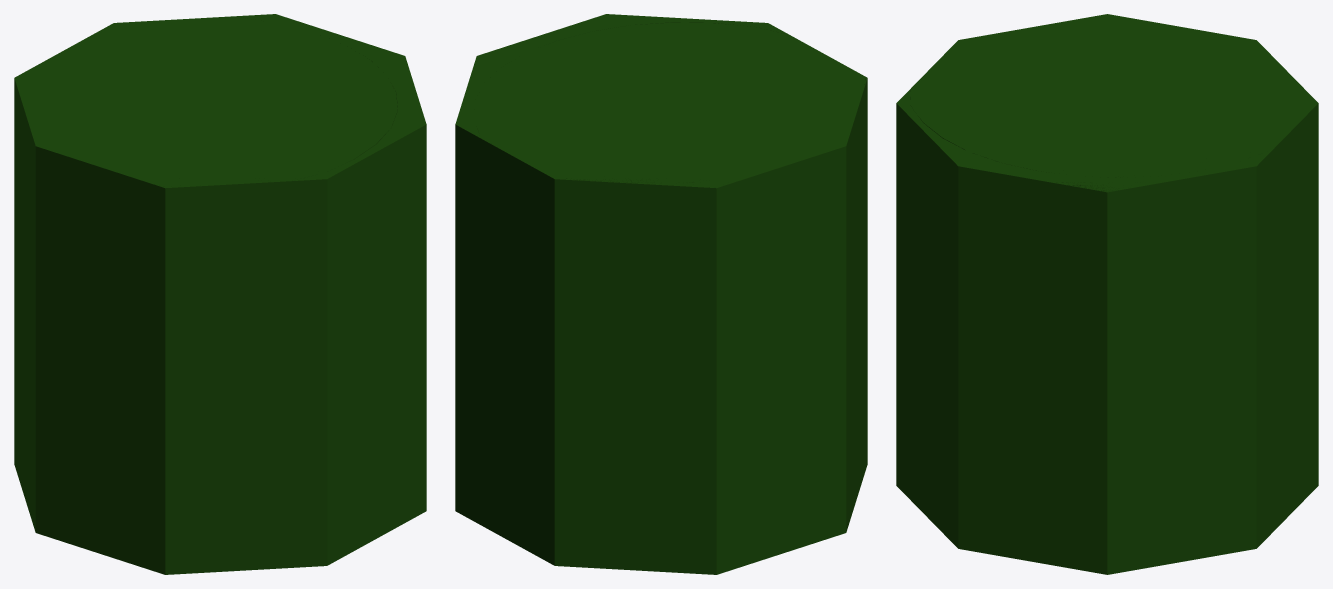
File: abranch.gltf
3 renders of one model, left to right at view 1: azimuth 30°, elevation 25°; view 2: azimuth 150°, elevation 25°; view 3: azimuth 270°, elevation 25°, orthographic.
Visible parts, largest first — view 1: Cylinder.001; view 2: Cylinder.001; view 3: Cylinder.001.
Boxes of the visible parts, x1=… form: Cylinder.001: x1=14, y1=14, x2=426, y2=574; Cylinder.001: x1=455, y1=14, x2=867, y2=574; Cylinder.001: x1=896, y1=14, x2=1318, y2=574.
Size of the model in its own units: 0.0299 by 0.0299 by 0.0299.
